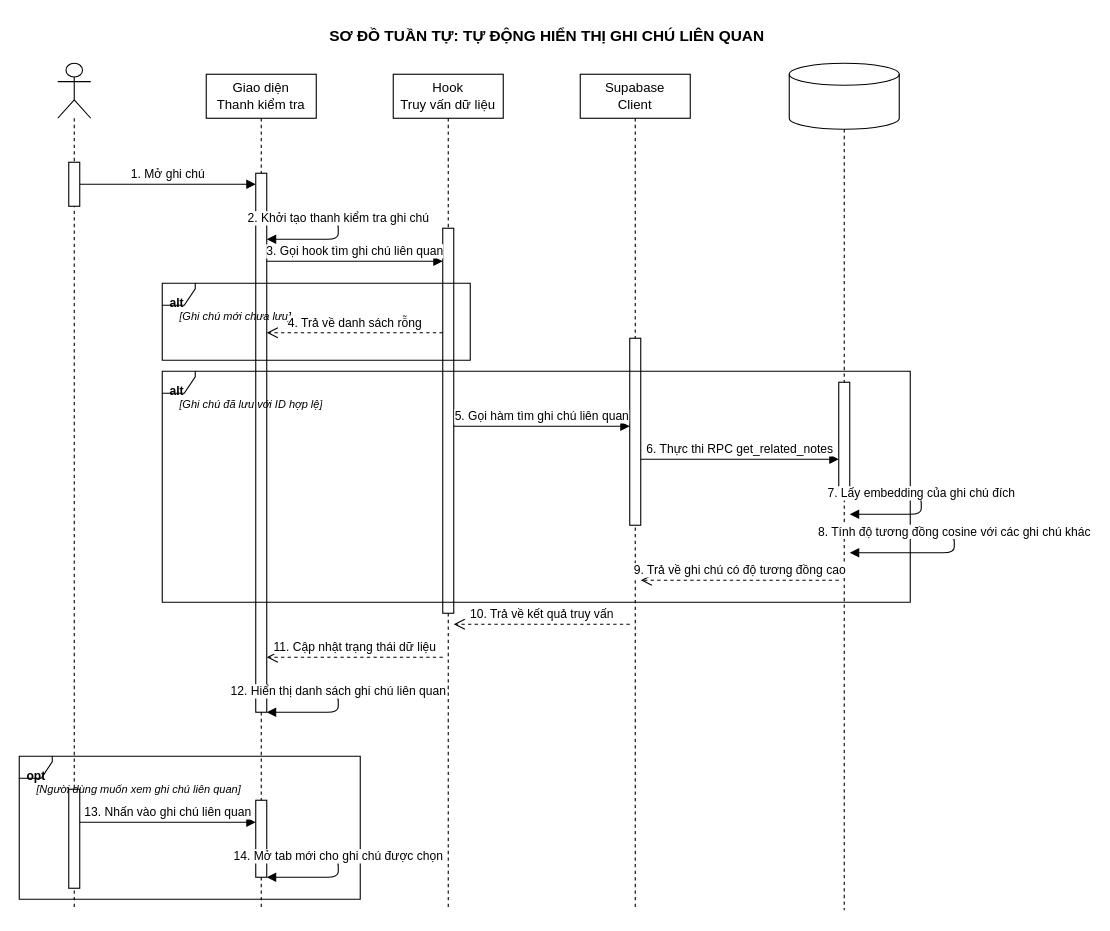
This 1110x931 diagram has some shape labels left out. Here are the shapes that lost their labels. From the top down, the centre of each, then its label:
At (x=74, y=90): "Người dùng".
At (x=843, y=95): "Cơ sở dữ liệu".
